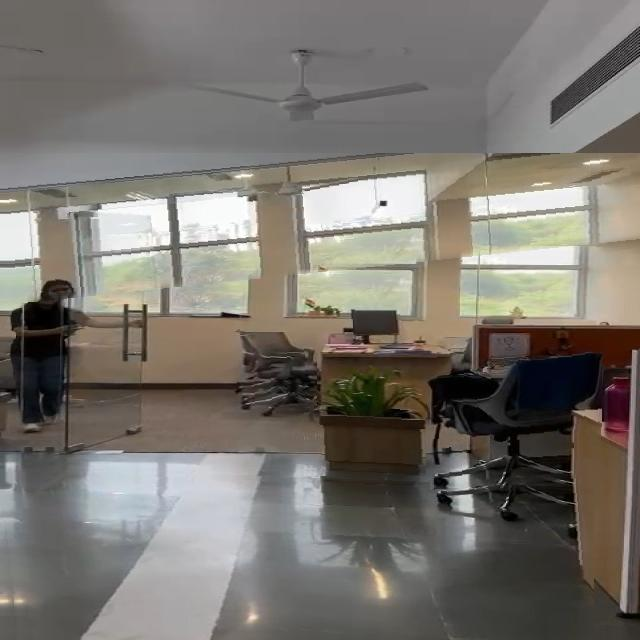floor: (0, 466, 594, 640)
furniture: (430, 338, 603, 490), (304, 385, 426, 476), (227, 332, 317, 413), (332, 307, 427, 343)
wall: (0, 153, 640, 304)
